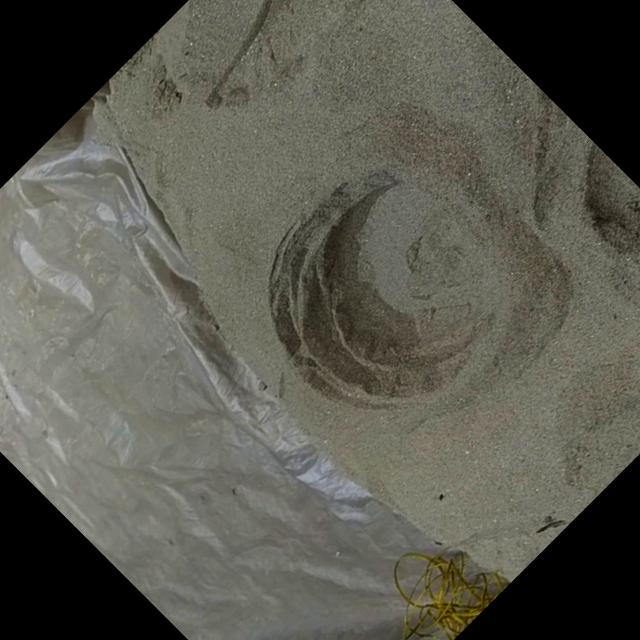C20: (270, 181, 493, 400)
